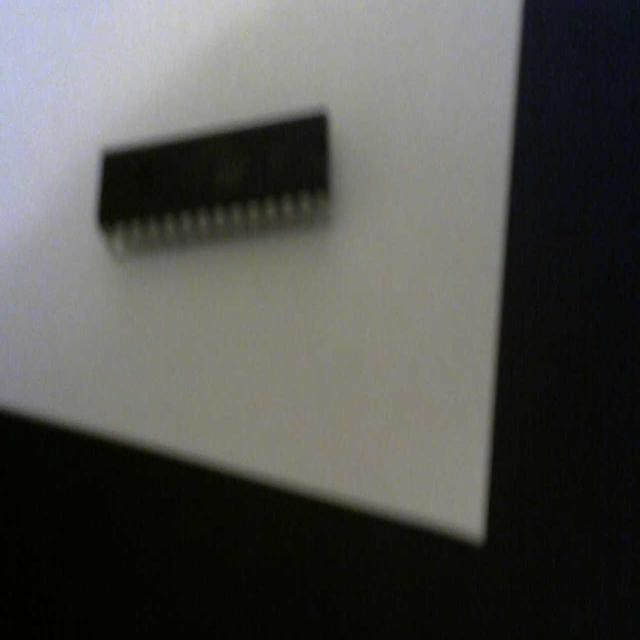atmega: (102, 101, 336, 237)
